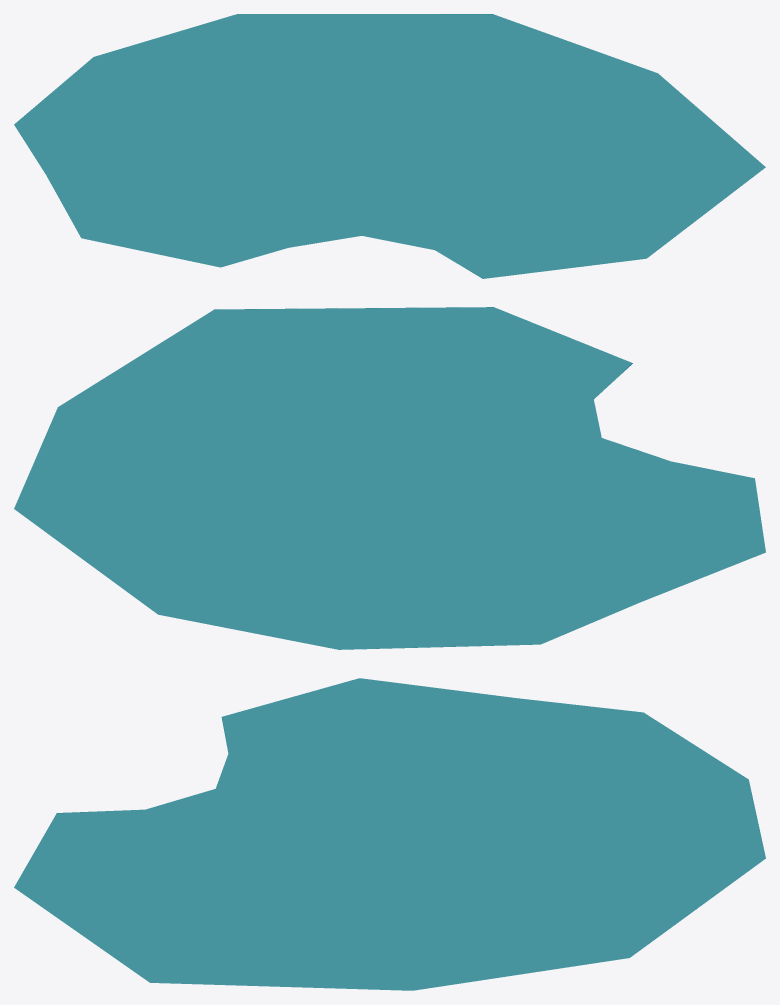
Rendered from water3.glb.
The picture shows the model from 3 angles, top to bottom: view 1: azimuth 30°, elevation 25°; view 2: azimuth 150°, elevation 25°; view 3: azimuth 270°, elevation 25°; orthographic projection. The views are drawn at different scales.
Visible parts, largest first — view 1: pond_0.002; view 2: pond_0.002; view 3: pond_0.002.
Part boxes in pixels (left/top/right/bottom): pond_0.002: left=14, top=14, right=765, bottom=278; pond_0.002: left=14, top=307, right=765, bottom=649; pond_0.002: left=14, top=678, right=765, bottom=990.
Size of the model in its own units: 4.27 by 2.93e-06 by 4.34.
